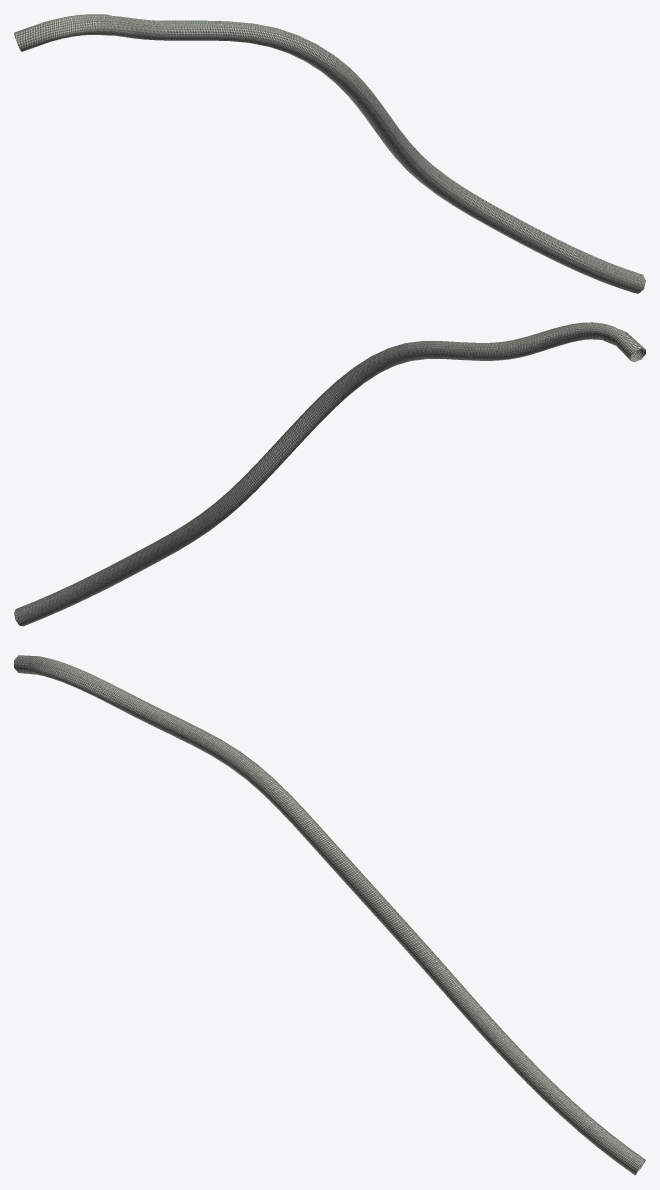
Rendered from microtubule33.fbx.
The picture shows the model from 3 angles, top to bottom: view 1: azimuth 30°, elevation 25°; view 2: azimuth 150°, elevation 25°; view 3: azimuth 330°, elevation 25°; orthographic projection. The views are drawn at different scales.
Visible parts, largest first — view 1: microtubule33; view 2: microtubule33; view 3: microtubule33.
Part boxes in pixels (left/top/right/bottom): microtubule33: left=14, top=14, right=645, bottom=293; microtubule33: left=14, top=322, right=645, bottom=626; microtubule33: left=14, top=655, right=645, bottom=1175.
Bounding box in the file's own units: 5432 × 3544 × 739.
1 material, 1 textured.
